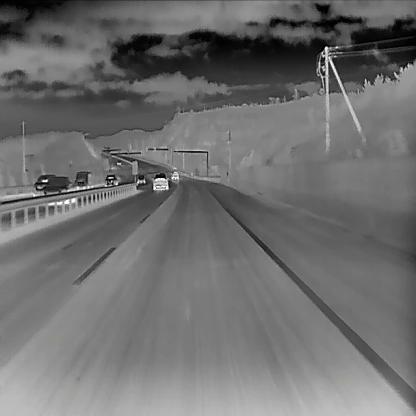car: (43, 174, 76, 205), (31, 172, 57, 197), (74, 170, 93, 190), (151, 172, 169, 189), (103, 172, 118, 187), (136, 173, 145, 183), (170, 171, 179, 180), (115, 159, 121, 164)
